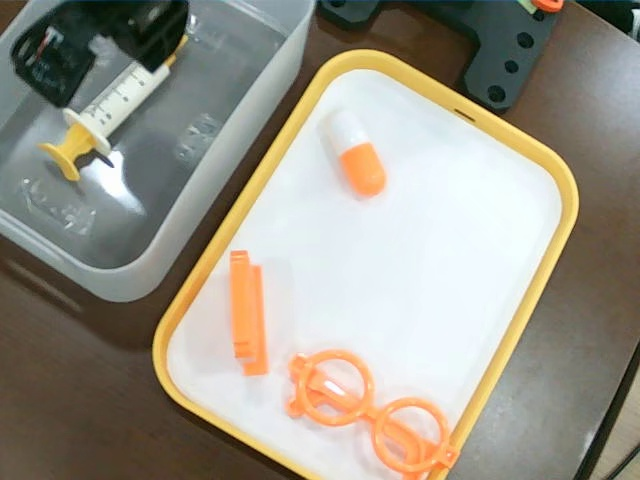pill: (325, 108, 389, 202)
syringe: (38, 32, 188, 185)
